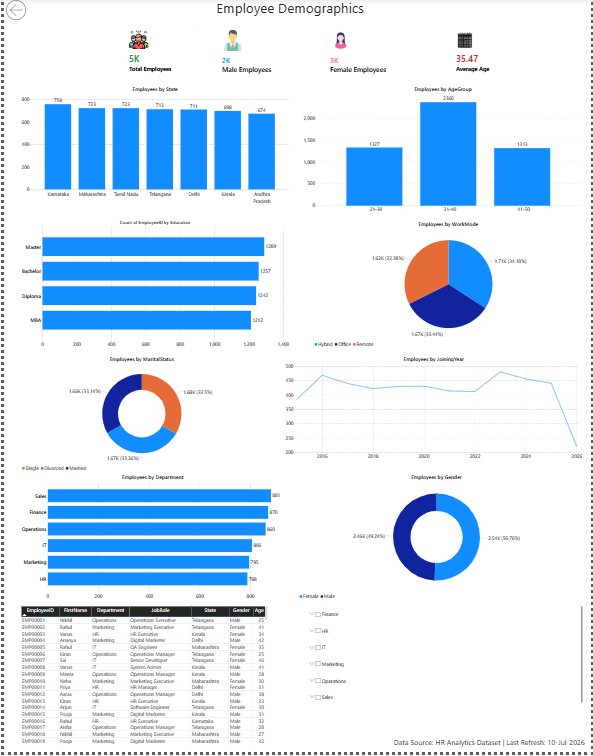

What the dashboard file says about the page in this screenshot:
{"tool":"powerbi","page":{"name":"Employee Demographics","canvas":[3500,4500],"ordinal":4},"visuals":[{"type":"textbox","box":[1028.2,0,1357.2,123.4],"z":0},{"type":"cardVisual","fields":{"Data":["Employees.Total Employees"]},"box":[715.6,143.9,444.2,345.5],"z":0,"group":"g1"},{"type":"group","id":"g1","title":"Group 1","box":[715.6,143.9,2367,346.1],"z":1000},{"type":"cardVisual","fields":{"Data":["Employees.Average Age"]},"box":[2671.3,152.8,411.3,337.3],"z":1000,"group":"g1"},{"type":"cardVisual","fields":{"Data":["Employees.Male Employees"]},"box":[1272.4,164.7,538.8,320.8],"z":2000,"group":"g1"},{"type":"clusteredColumnChart","title":"Employees by State","fields":{"Category":["Employees.State"],"Y":["CountNonNull(Employees.EmployeeID)"]},"box":[98.7,518.2,1608.1,719.7],"z":2000},{"type":"cardVisual","fields":{"Data":["Employees.Female Employees"]},"box":[1918.6,161,588.1,316.7],"z":3000,"group":"g1"},{"type":"columnChart","title":"Employees by AgeGroup","fields":{"Category":["Employees.AgeGroup"],"Y":["CountNonNull(Employees.EmployeeID)"]},"box":[1780.8,518.2,1678,773.2],"z":3000},{"type":"donutChart","title":"Employees by Gender","fields":{"Category":["Employees.Gender"],"Y":["CountNonNull(Employees.EmployeeID)"]},"box":[1752.1,2833.7,1653.3,760.9],"z":4000},{"type":"barChart","fields":{"Category":["Employees.Education"],"Y":["CountNonNull(Employees.EmployeeID)"]},"box":[98.7,1324.3,1608.1,769.1],"z":5000},{"type":"donutChart","title":"Employees by MaritalStatus","fields":{"Category":["Employees.MaritalStatus"],"Y":["CountNonNull(Employees.EmployeeID)"]},"box":[98.7,2130.4,1447.7,703.3],"z":6000},{"type":"pieChart","title":"Employees by WorkMode","fields":{"Category":["Employees.WorkMode"],"Y":["CountNonNull(Employees.EmployeeID)"]},"box":[1842.5,1324.3,1616.3,769.1],"z":7000},{"type":"lineChart","title":"Employees by JoiningYear","fields":{"Category":["Employees.JoiningYear"],"Y":["CountNonNull(Employees.EmployeeID)"]},"box":[1678,2130.4,1780.8,633.4],"z":8000},{"type":"barChart","title":"Employees by Department","fields":{"Y":["CountNonNull(Employees.Department)"],"Category":["Employees.Department"]},"box":[98.7,2833.7,1579.3,760.9],"z":9000},{"type":"tableEx","fields":{"Values":["Employees.EmployeeID","Employees.FirstName","Employees.Department","Employees.JobRole","Employees.State","Employees.Gender","Employees.Age"]},"box":[98.7,3627.5,1476.5,839],"z":10000},{"type":"slicer","fields":{"Values":["Employees.Department","Employees.Gender","Employees.State","Employees.Education","Employees.WorkMode"]},"box":[1809.6,3627.5,1649.2,596.4],"z":11000},{"type":"textbox","box":[2290.8,4408.3,1209.2,91.7],"z":11001},{"type":"actionButton","box":[0,0,209.8,143.9],"z":11003}]}

Visuals, with their boxes in screenshot pixels (x1, y1, x2, y2), scaled from the page's 3500x4500 canvas onto the 593x756 screenshot:
textbox: box(174, 0, 404, 21)
cardVisual - Employees.Total Employees: box(121, 24, 197, 82)
"Group 1" group: box(121, 24, 522, 82)
cardVisual - Employees.Average Age: box(453, 26, 522, 82)
cardVisual - Employees.Male Employees: box(216, 28, 307, 82)
"Employees by State" clusteredColumnChart: box(17, 87, 289, 208)
cardVisual - Employees.Female Employees: box(325, 27, 425, 80)
"Employees by AgeGroup" columnChart: box(302, 87, 586, 217)
"Employees by Gender" donutChart: box(297, 476, 577, 604)
barChart - Employees.Education x CountNonNull(Employees.EmployeeID): box(17, 222, 289, 352)
"Employees by MaritalStatus" donutChart: box(17, 358, 262, 476)
"Employees by WorkMode" pieChart: box(312, 222, 586, 352)
"Employees by JoiningYear" lineChart: box(284, 358, 586, 464)
"Employees by Department" barChart: box(17, 476, 284, 604)
tableEx - Employees.EmployeeID x Employees.FirstName: box(17, 609, 267, 750)
slicer - Employees.Department x Employees.Gender: box(307, 609, 586, 710)
textbox: box(388, 741, 592, 755)
actionButton: box(0, 0, 36, 24)
